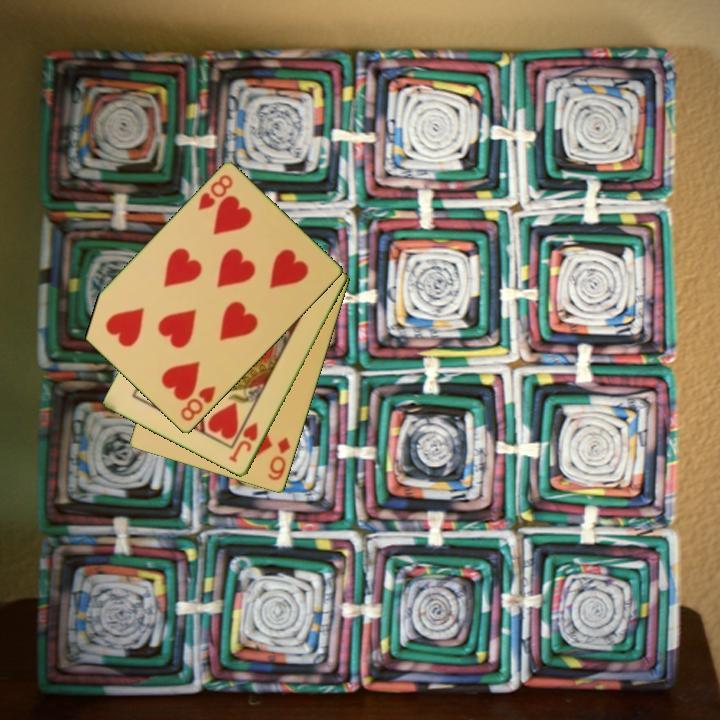6d: (264, 434, 294, 484)
8h: (194, 171, 236, 214), (177, 383, 219, 424)
Jh: (225, 419, 261, 466)
